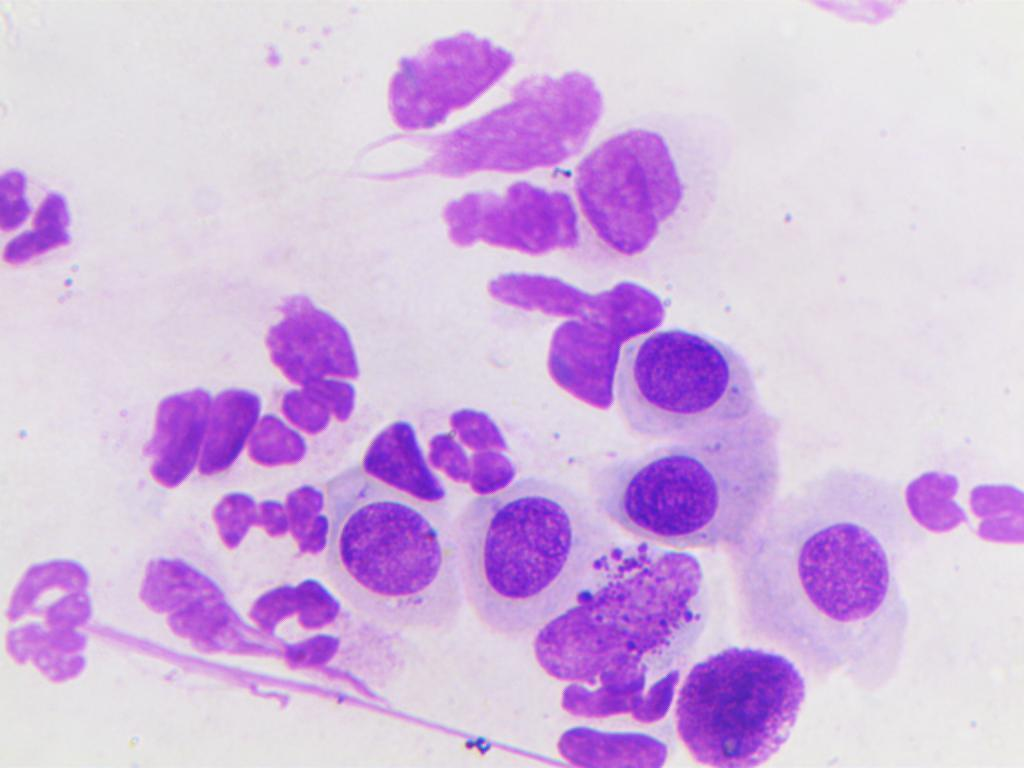artifact: (467, 266, 663, 406), (422, 67, 603, 189), (0, 550, 102, 692), (124, 549, 242, 662), (387, 29, 518, 130), (138, 383, 258, 490), (427, 181, 583, 258), (259, 291, 363, 381), (352, 417, 448, 501), (548, 728, 677, 768)
epithelial: (582, 113, 715, 259), (765, 511, 904, 645), (455, 489, 584, 611), (334, 491, 445, 613), (613, 449, 741, 544), (634, 332, 753, 420)
mast_cell: (536, 546, 703, 674), (672, 632, 814, 767)
neutrophil: (249, 370, 384, 479), (904, 459, 1024, 557), (193, 482, 338, 559), (249, 570, 347, 672), (423, 397, 518, 496), (0, 158, 81, 274), (552, 662, 682, 720)
